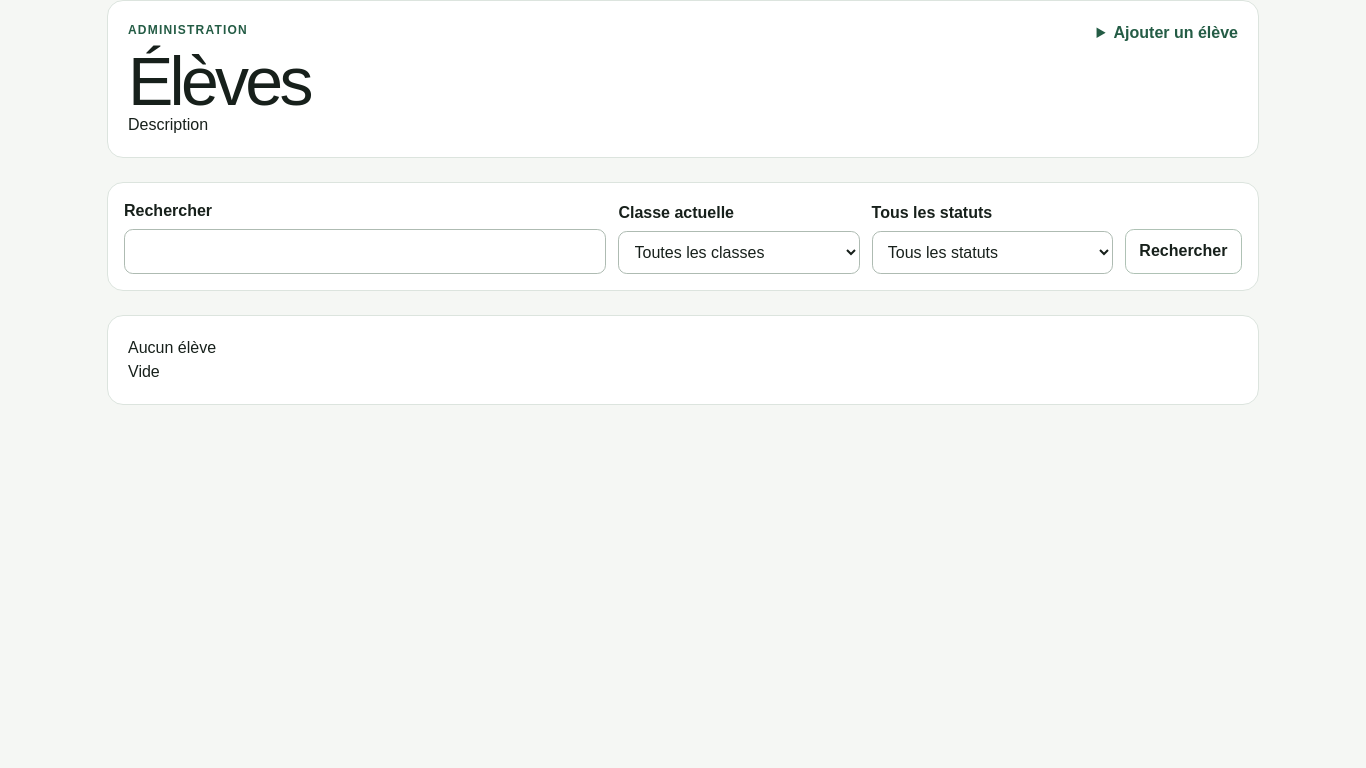
Scenario: student ADMIN presentation › offers accessible create fields and only supplied active classes
Click the heading "Ajouter un élève" at (1167, 33), box [1097, 21, 1238, 45]
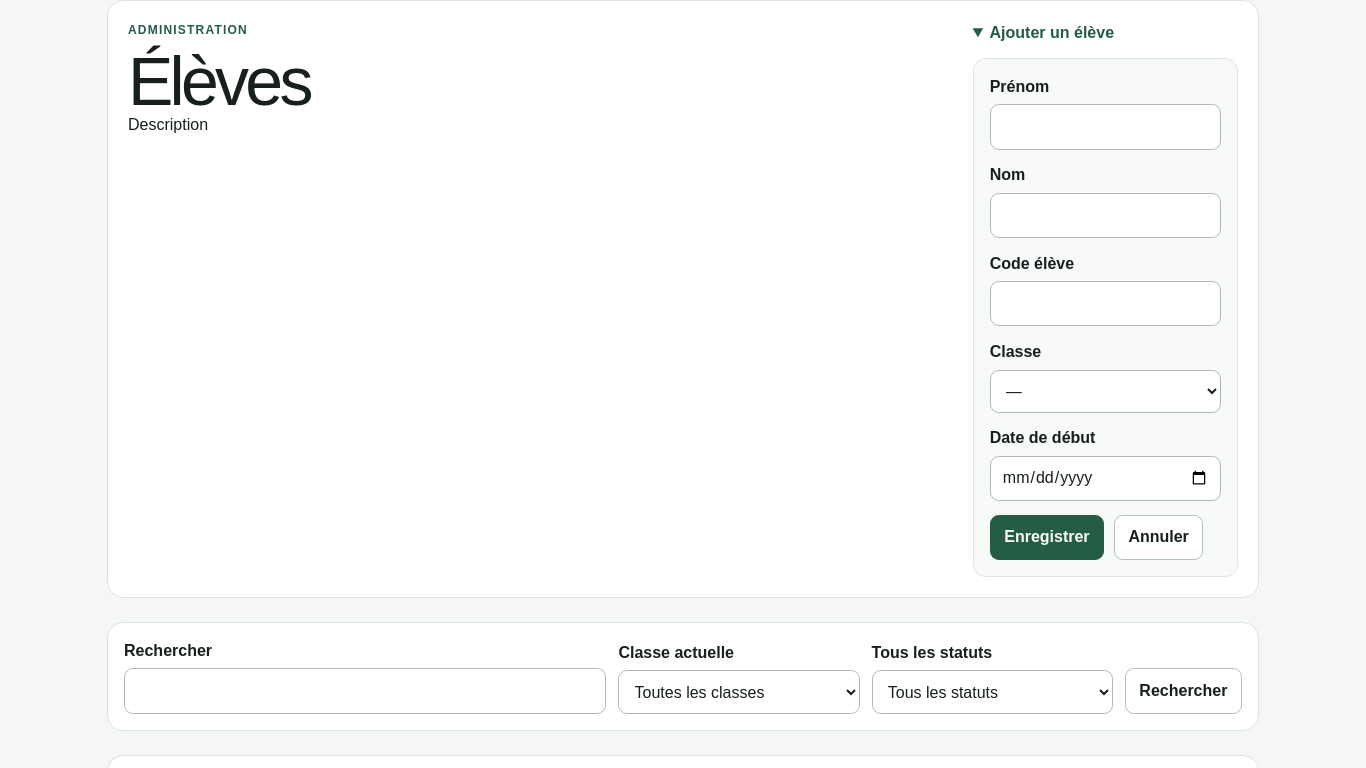
Expected: the field labelled "Prénom" is shown, [990, 104, 1221, 150]
